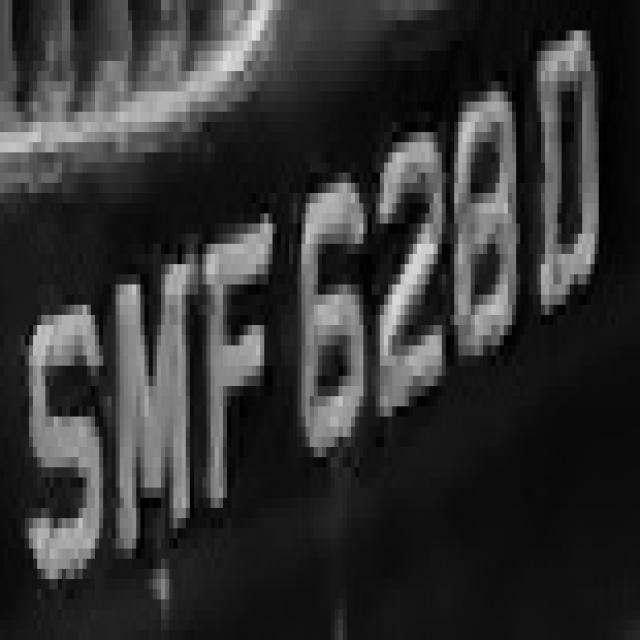2: (363, 102, 450, 447)
6: (289, 122, 372, 477)
8: (442, 31, 528, 396)
D: (529, 31, 611, 336)
F: (182, 213, 276, 518)
M: (99, 203, 194, 569)
S: (8, 264, 108, 610)
